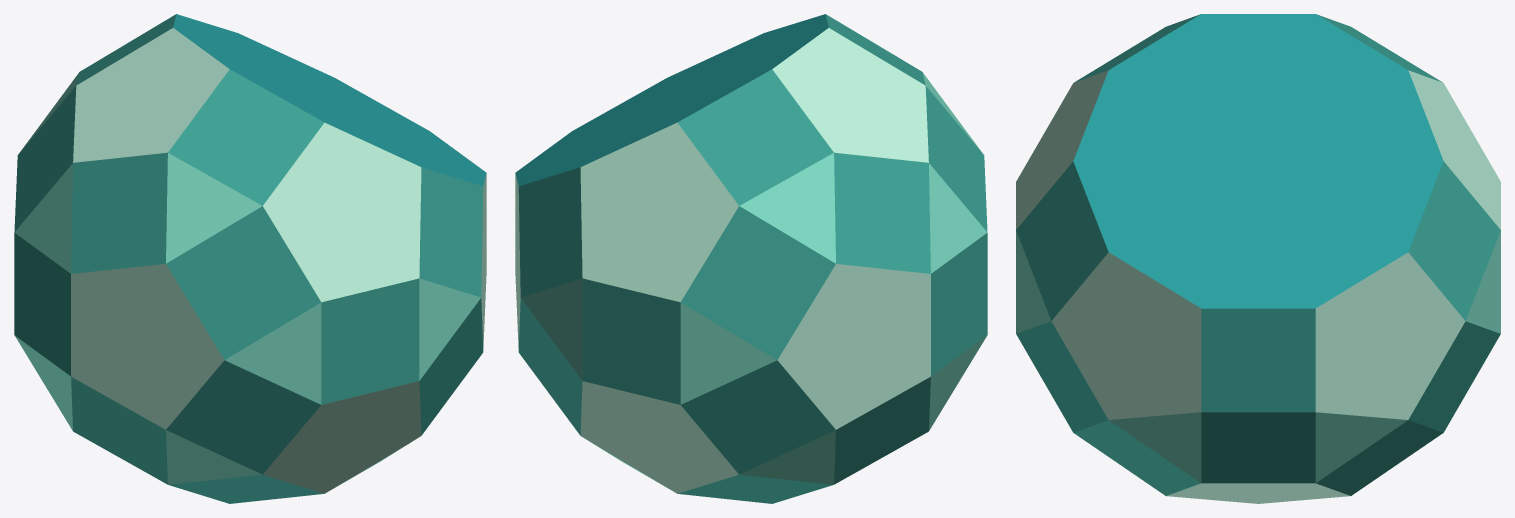
Rendered from J78.RombicosidodecaedroMetagiroideDisminuido.gltf.
3 renders of one model, left to right at view 1: azimuth 30°, elevation 25°; view 2: azimuth 150°, elevation 25°; view 3: azimuth 270°, elevation 25°, orthographic.
Parts seen in each view (by area): view 1: J78.RombicosidodecaedroMetagiroideDisminuido; view 2: J78.RombicosidodecaedroMetagiroideDisminuido; view 3: J78.RombicosidodecaedroMetagiroideDisminuido.
Part boxes in pixels (x1=…): J78.RombicosidodecaedroMetagiroideDisminuido: x1=14, y1=14, x2=486, y2=503; J78.RombicosidodecaedroMetagiroideDisminuido: x1=515, y1=14, x2=987, y2=503; J78.RombicosidodecaedroMetagiroideDisminuido: x1=1016, y1=14, x2=1500, y2=503.
Bounding box in the file's own units: 18.97 × 19.35 × 18.97.
